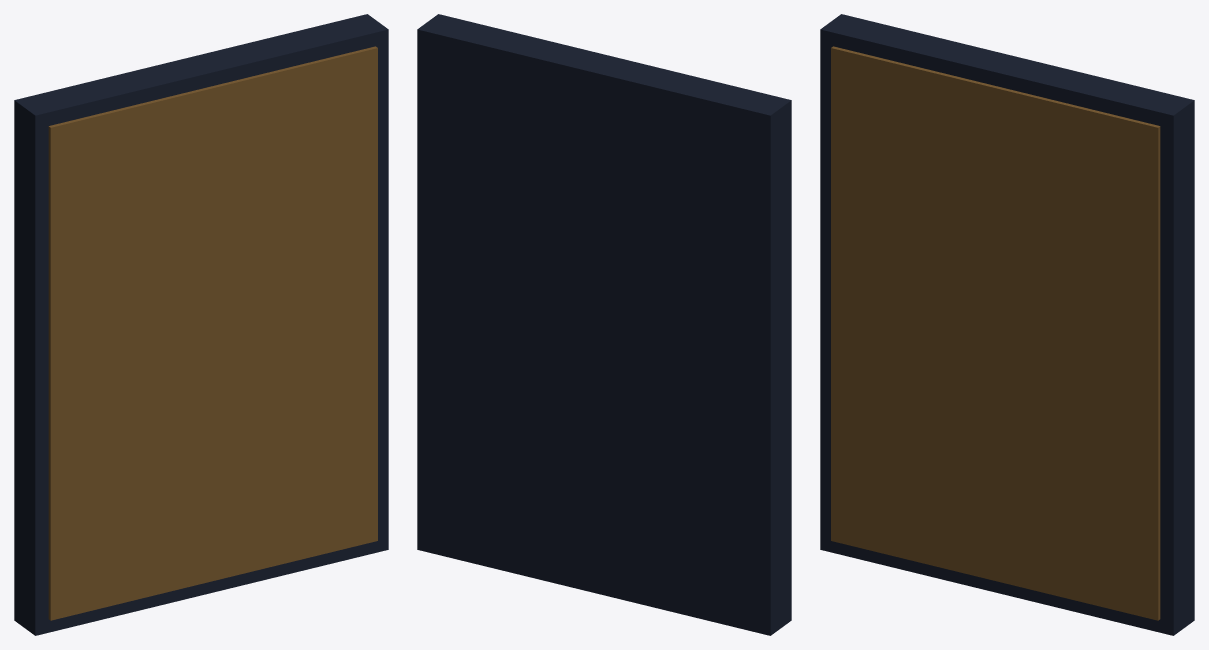
File: dvd-3.glb
3 renders of one model, left to right at view 1: azimuth 30°, elevation 25°; view 2: azimuth 150°, elevation 25°; view 3: azimuth 330°, elevation 25°, orthographic.
Bounding box in the file's own units: 0.135 × 0.19 × 0.0155.
